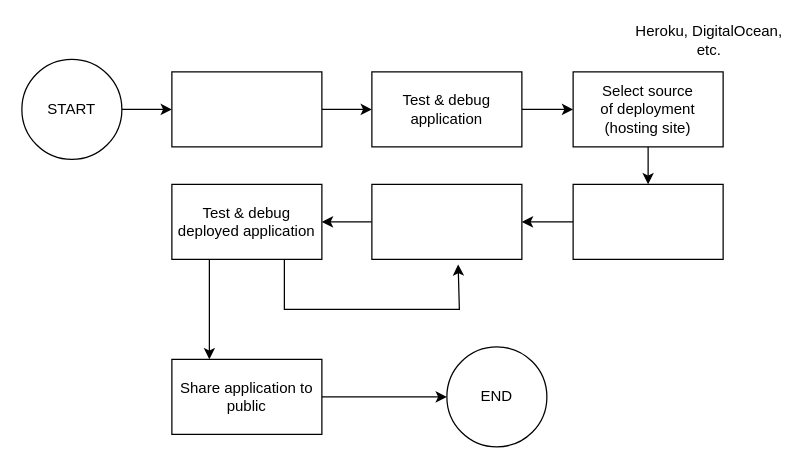
Image size: 806x469. Some labels were removed from this diagram. The shapes that lost their labels are listed below. From the top down, each one's centre as x and y in pixels, then its label:
(x=246, y=109): Write application code
(x=446, y=221): Update project configuration
(x=647, y=221): Upload to hosting site as a project
